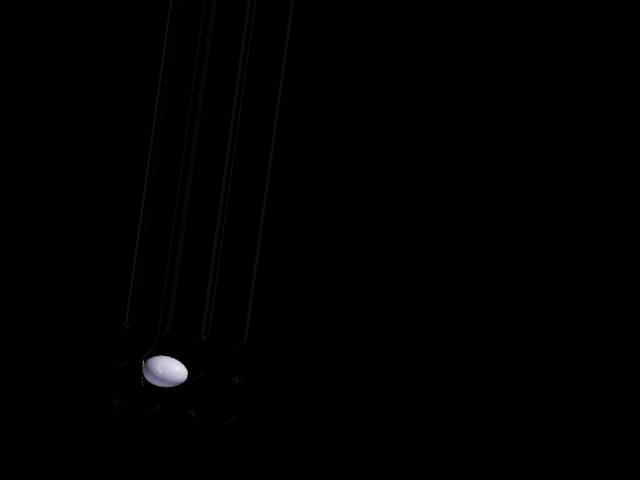egg: (140, 352, 189, 389)
